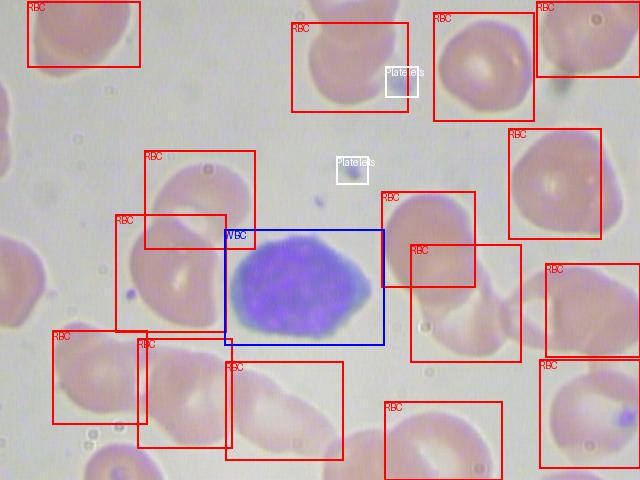Platelets: (385, 66, 418, 97), (336, 156, 368, 184)
RBC: (115, 214, 226, 332), (410, 244, 521, 362), (225, 361, 343, 460), (433, 12, 534, 121), (539, 359, 640, 468), (144, 150, 255, 249), (291, 22, 408, 112), (137, 338, 232, 448), (508, 128, 601, 239), (384, 401, 502, 480), (381, 191, 475, 287), (545, 263, 640, 357), (52, 330, 147, 424), (536, 1, 640, 77), (27, 1, 140, 67)
WBC: (224, 229, 384, 345)
